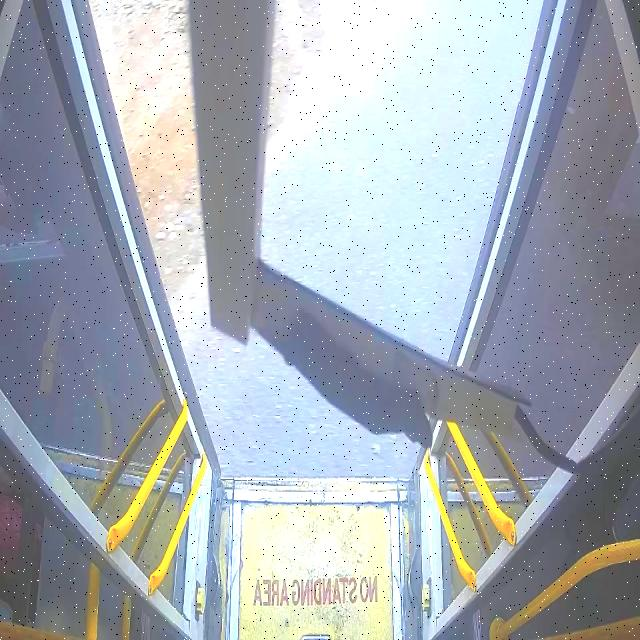open: (64, 2, 566, 488)
